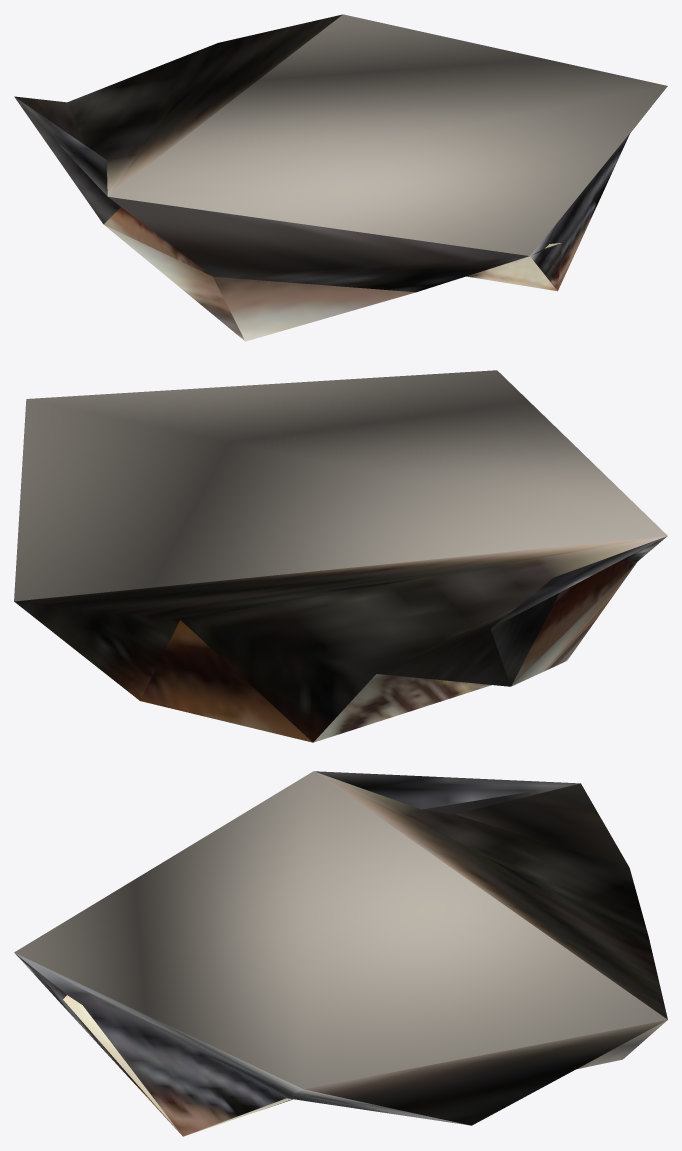
Rendered from cake_36.obj.
3 views of the same model, one above another, from view 1: azimuth 30°, elevation 25°; view 2: azimuth 150°, elevation 25°; view 3: azimuth 270°, elevation 25° (orthographic). The views are drawn at different scales.
Size of the model in its own units: 0.1673 by 0.0456 by 0.1569.
Materials: 1 (1 with a texture image).
